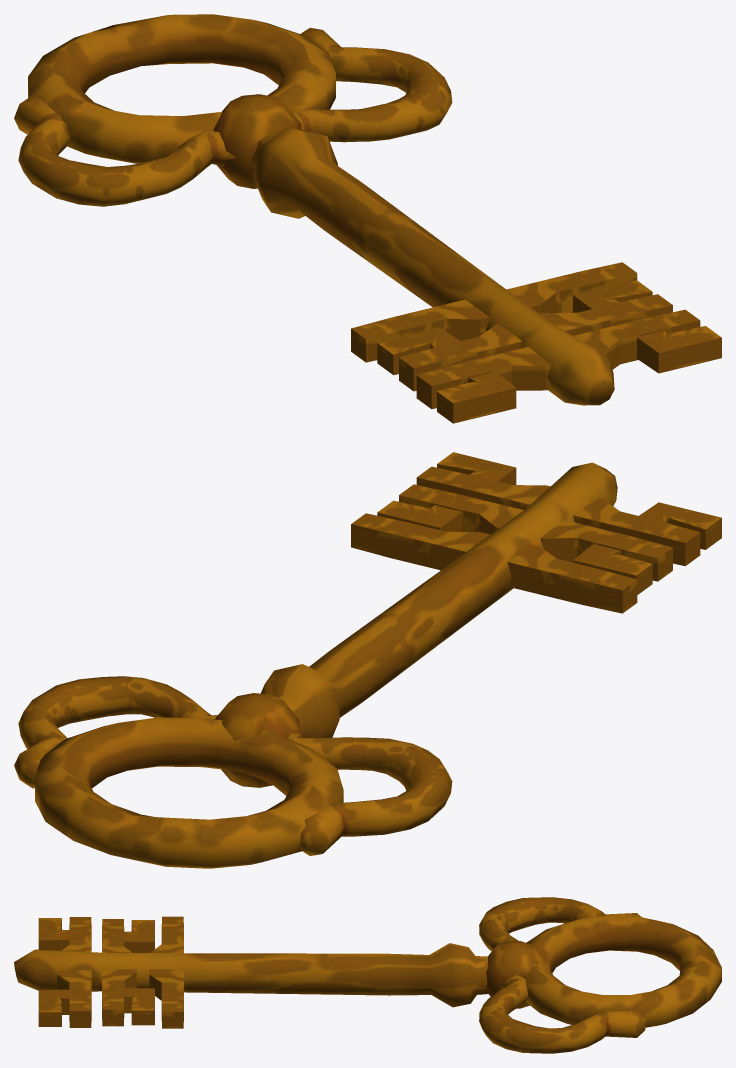
Rendered from Key_Gold.glb.
The picture shows the model from 3 angles, top to bottom: view 1: azimuth 30°, elevation 25°; view 2: azimuth 150°, elevation 25°; view 3: azimuth 270°, elevation 25°; orthographic projection. The views are drawn at different scales.
Parts seen in each view (by area): view 1: Key_Gold; view 2: Key_Gold; view 3: Key_Gold.
Part boxes in pixels (x1,y1,x2,y2): Key_Gold: (14, 14, 721, 423); Key_Gold: (14, 452, 721, 868); Key_Gold: (14, 897, 721, 1053).
Bounding box in the file's own units: 0.0581 × 0.0123 × 0.1223.
Materials: 1 (1 with a texture image).
